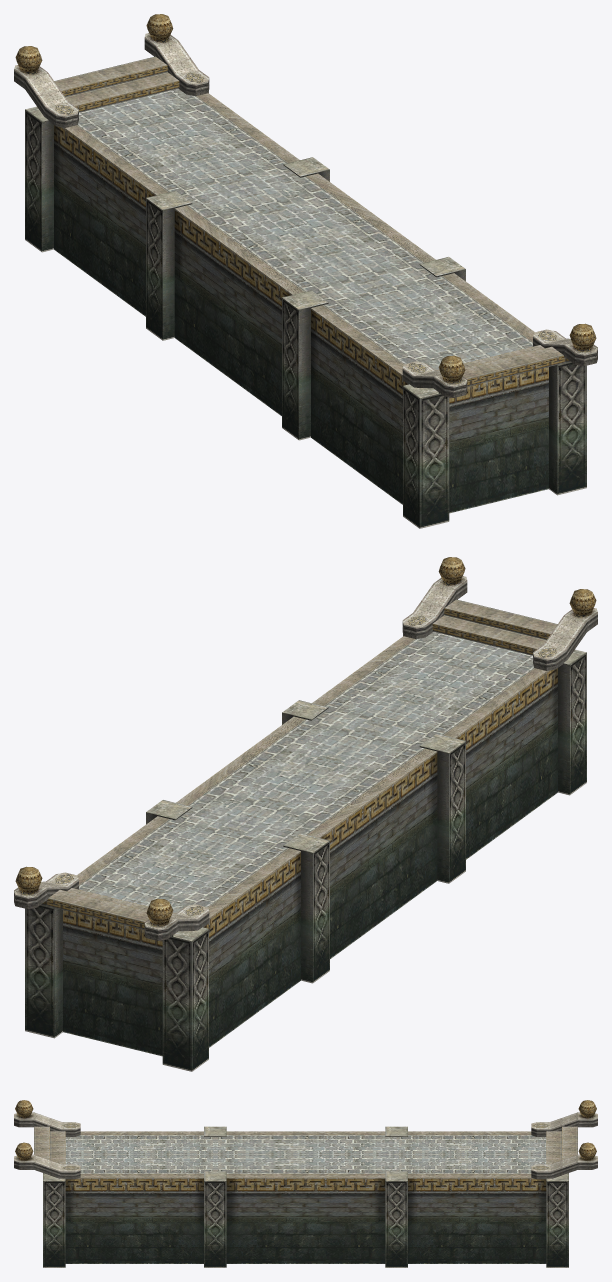
The model's file is otherworld_bridge_02.fbx.
3 renders of one model, top to bottom at view 1: azimuth 30°, elevation 25°; view 2: azimuth 150°, elevation 25°; view 3: azimuth 270°, elevation 25°, orthographic. The views are drawn at different scales.
Parts seen in each view (by area): view 1: otherworld_bridge_02; view 2: otherworld_bridge_02; view 3: otherworld_bridge_02.
Part boxes in pixels (x1,y1,x2,y2): otherworld_bridge_02: (14,14,597,528); otherworld_bridge_02: (14,557,597,1071); otherworld_bridge_02: (14,1100,597,1267).
Bounding box in the file's own units: 8.5 × 8.7 × 38.66.
